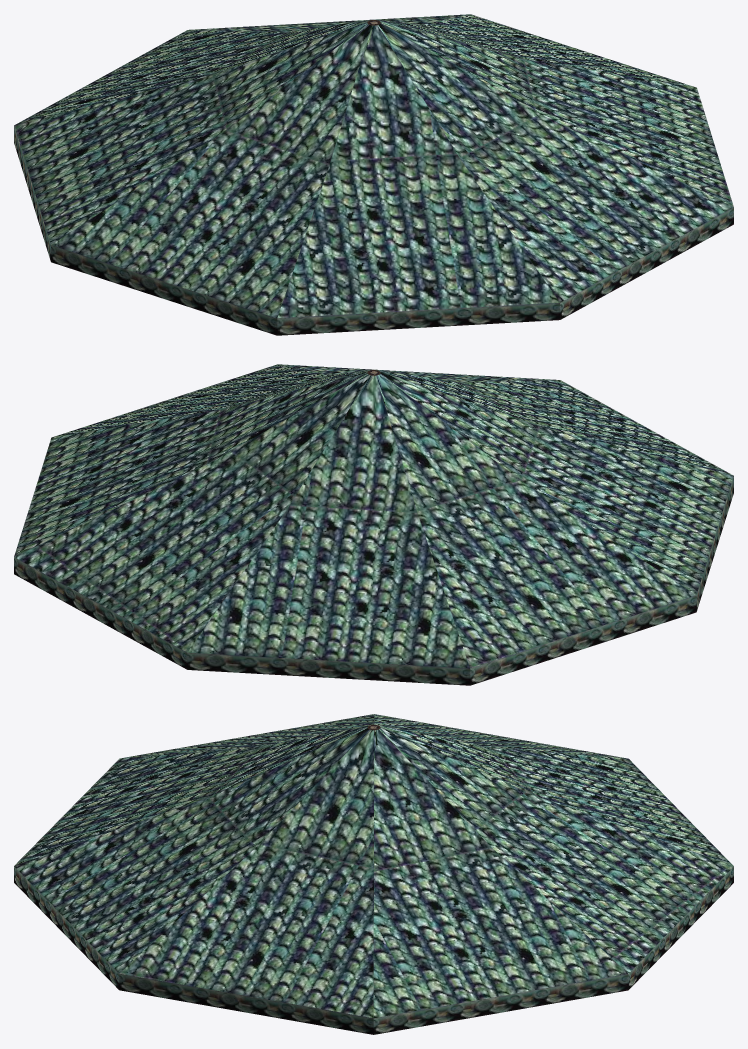
The model's file is nder02.obj.
3 views of the same model, one above another, from view 1: azimuth 30°, elevation 25°; view 2: azimuth 150°, elevation 25°; view 3: azimuth 270°, elevation 25° (orthographic). The views are drawn at different scales.
Parts seen in each view (by area): view 1: nder02; view 2: nder02; view 3: nder02.
Boxes of the visible parts, x1=… form: nder02: x1=14, y1=14, x2=733, y2=335; nder02: x1=14, y1=364, x2=733, y2=685; nder02: x1=14, y1=714, x2=733, y2=1034.
Bounding box in the file's own units: 196 × 46.65 × 196.
